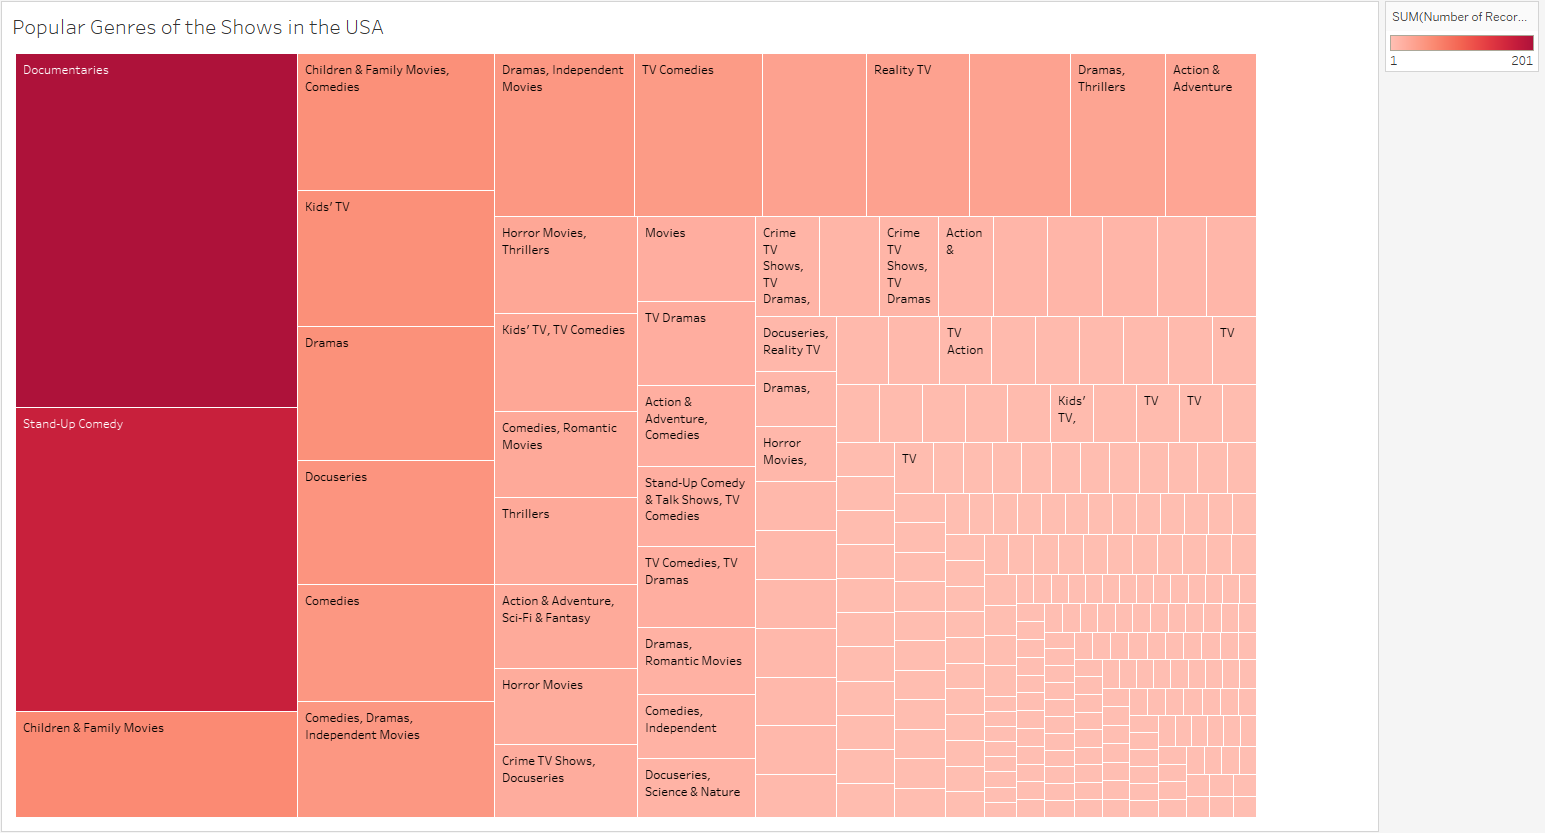

The dashboard page shown, as its layout file describes it:
{"tool":"tableau","page":{"name":"Dashboard 2","canvas":[1000,800],"ordinal":1},"visuals":[{"type":"worksheet","title":"Sheet 4","mark":"Automatic","rows":["Number of Records"],"cols":["country","date_added"],"box":[7,10,493,314]},{"type":"worksheet","title":"Sheet 5","mark":"Automatic","rows":["Number of Records"],"cols":["country","type","rating"],"box":[533,18,462,340]},{"type":"worksheet","title":"Sheet 7","mark":"Automatic","rows":["type","title","country"],"cols":["Number of Records"],"box":[559,378,437,424]},{"type":"legend","title":"Sheet 6","param":"[federated.1rcdr6i1fy4jxg1901l3j1e7jz3h].[sum:Number of Records:qk]","box":[402,406,117,52]},{"type":"worksheet","title":"Sheet 6","mark":"Automatic","box":[15,416,510,364]}]}

Visuals, with their boxes on the page's 1000x800 design canvas (x1, y1, x2, y2). These are canvas units, not pixel positions in the 1545x833 screenshot, which may show the page scaled, cropped or inside an application window:
"Sheet 4" worksheet: <box>7,10,500,324</box>
"Sheet 5" worksheet: <box>533,18,995,358</box>
"Sheet 7" worksheet: <box>559,378,996,802</box>
"Sheet 6" legend: <box>402,406,519,458</box>
"Sheet 6" worksheet: <box>15,416,525,780</box>
